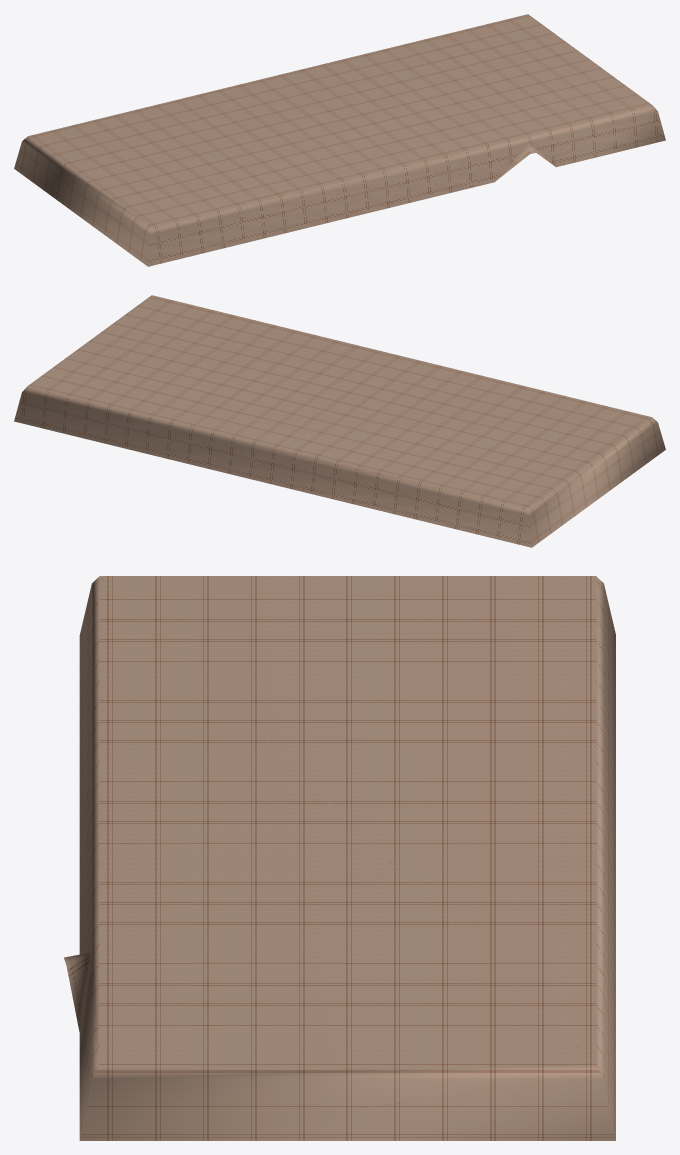
File: kd_stage_135ded_4_77.glb
3 renders of one model, top to bottom at view 1: azimuth 30°, elevation 25°; view 2: azimuth 150°, elevation 25°; view 3: azimuth 270°, elevation 25°, orthographic. The views are drawn at different scales.
Parts seen in each view (by area): view 1: kd_stage_135ded_4_77; view 2: kd_stage_135ded_4_77; view 3: kd_stage_135ded_4_77.
Boxes of the visible parts, box(x1,y1,x2,y2) form: kd_stage_135ded_4_77: box(14, 14, 665, 266); kd_stage_135ded_4_77: box(14, 295, 665, 547); kd_stage_135ded_4_77: box(64, 576, 615, 1140).
Bounding box in the file's own units: 2.65 × 0.1659 × 1.22.
Materials: 1 (1 with a texture image).
